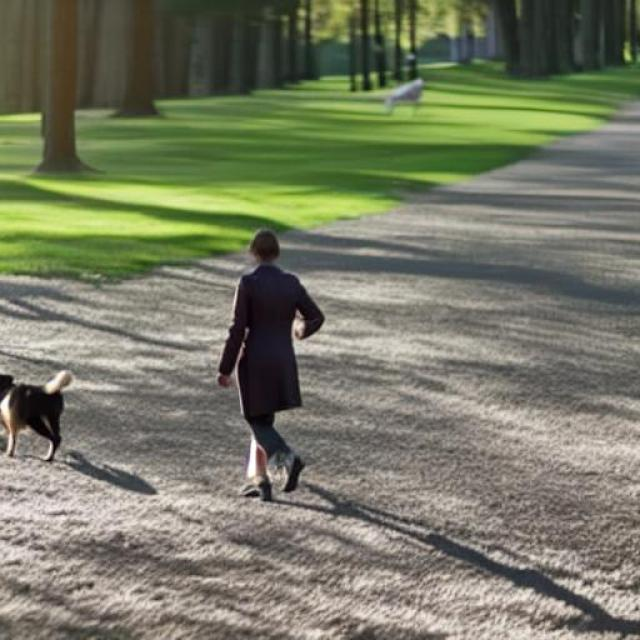Unleashed_Dog: (0, 354, 279, 464)
